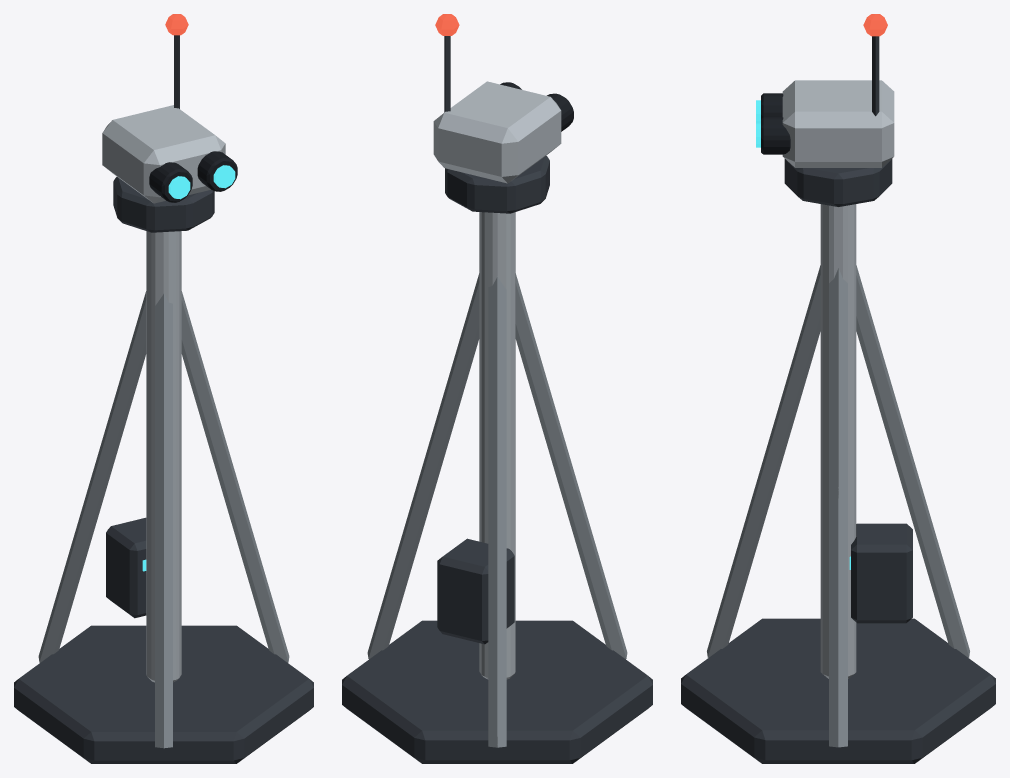
File: exo-sensor.glb
The picture shows the model from 3 angles, left to right: view 1: azimuth 30°, elevation 25°; view 2: azimuth 150°, elevation 25°; view 3: azimuth 270°, elevation 25°; orthographic projection. The views are drawn at different scales.
Parts seen in each view (by area): view 1: body, dish; view 2: body, dish; view 3: body, dish.
Boxes of the visible parts, x1,y1,x2,y2 form: body: (14, 231, 313, 763); dish: (102, 14, 237, 232); body: (342, 212, 652, 763); dish: (433, 14, 573, 213); body: (681, 204, 995, 763); dish: (756, 14, 894, 206).
Bounding box in the file's own units: 2.35 × 6.32 × 2.54.
